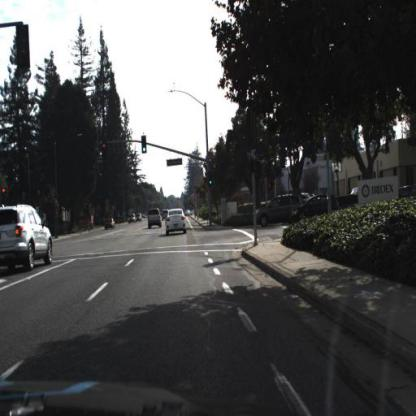car: (1, 206, 54, 271), (255, 191, 312, 229), (287, 192, 341, 228), (255, 191, 303, 230), (292, 195, 344, 230), (165, 209, 187, 237), (148, 206, 162, 228), (105, 216, 117, 233), (349, 184, 361, 197), (160, 208, 171, 222), (105, 219, 116, 231), (128, 215, 137, 224), (135, 213, 142, 221)
trafficLight-Green: (142, 135, 148, 153), (208, 173, 214, 187), (143, 139, 148, 155), (210, 176, 215, 189)
trafficLight-RedLeft: (103, 140, 109, 157), (103, 141, 108, 154)
